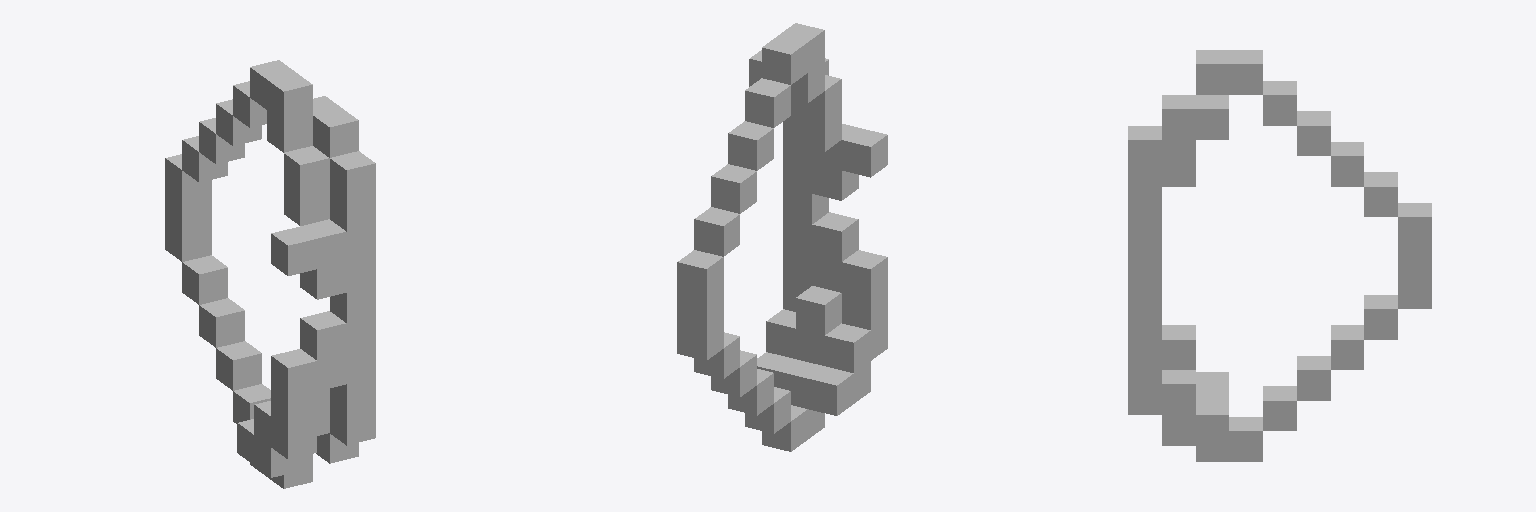
The model's file is BowPull5.obj.
3 renders of one model, left to right at view 1: azimuth 30°, elevation 25°; view 2: azimuth 150°, elevation 25°; view 3: azimuth 270°, elevation 25°, orthographic.
Visible parts, largest first — view 1: object 1; view 2: object 1; view 3: object 1.
Boxes of the visible parts, <box> form: object 1: <box>165,60,375,488</box>; object 1: <box>677,23,887,451</box>; object 1: <box>1128,50,1431,461</box>.
Size of the model in its own units: 0.3 by 1.3 by 0.9.